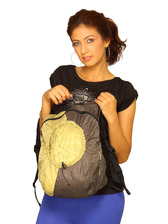bag: (32, 100, 109, 197)
